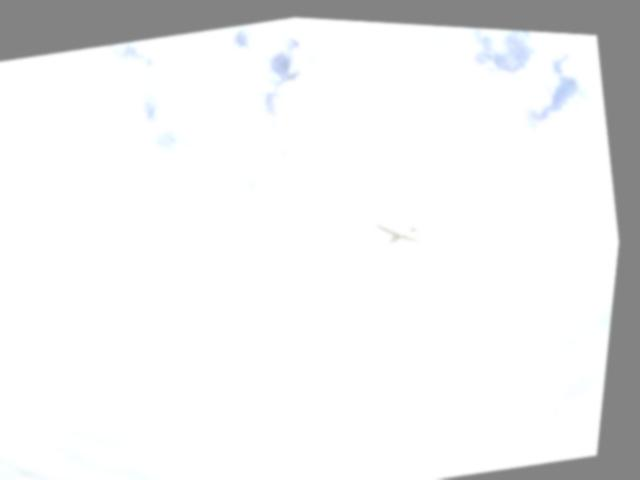uav: (365, 195, 438, 257)
